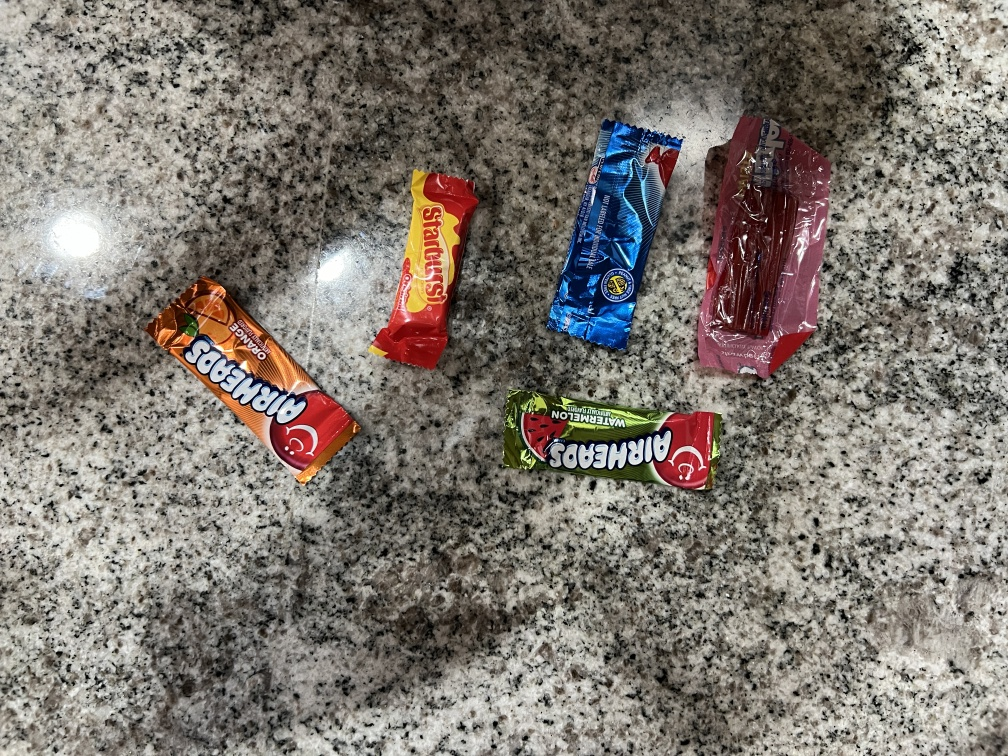airheads: (127, 273, 366, 492), (501, 378, 738, 502), (368, 157, 478, 379), (655, 231, 685, 233)
twizzlers: (543, 120, 688, 372), (711, 97, 823, 402)
